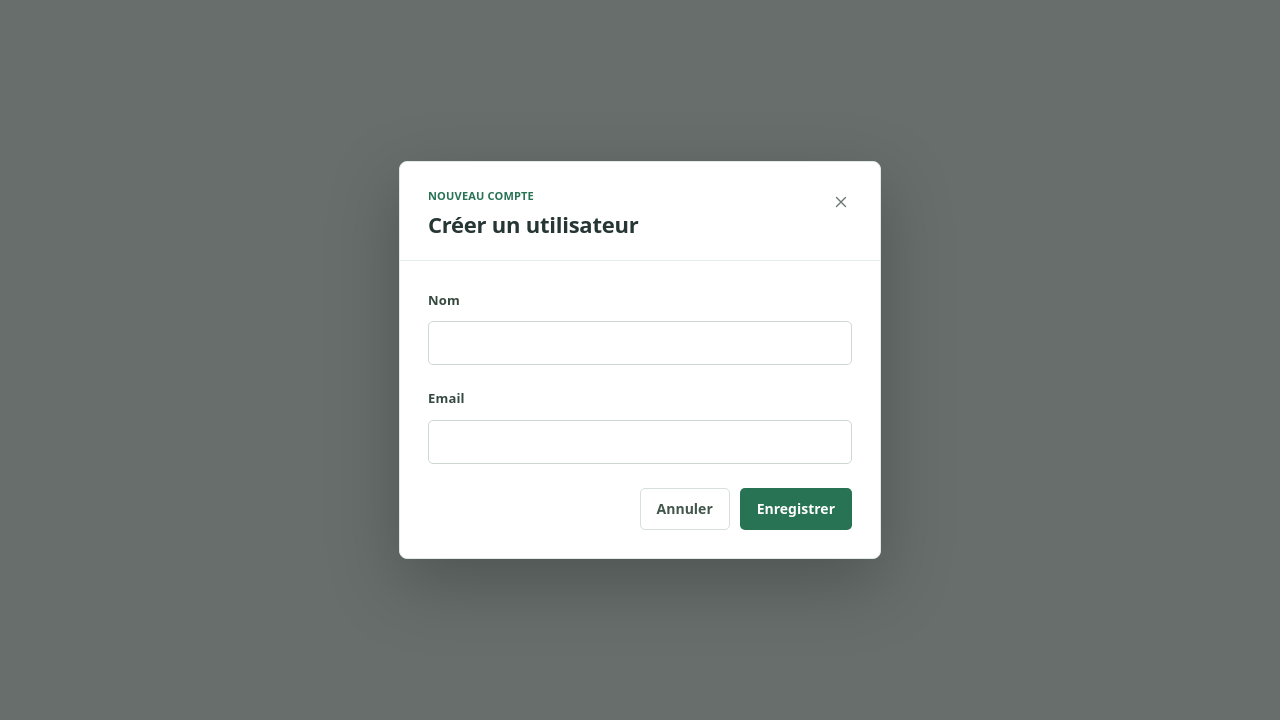
UserCreateModal › conserve les champs et la modal si l’API échoue en 500
The width and height of the screenshot is (1280, 720).
Step 1. Type "Karim" into the field with id "create-user-name" → (640, 344), box x1=428 y1=322 x2=852 y2=366
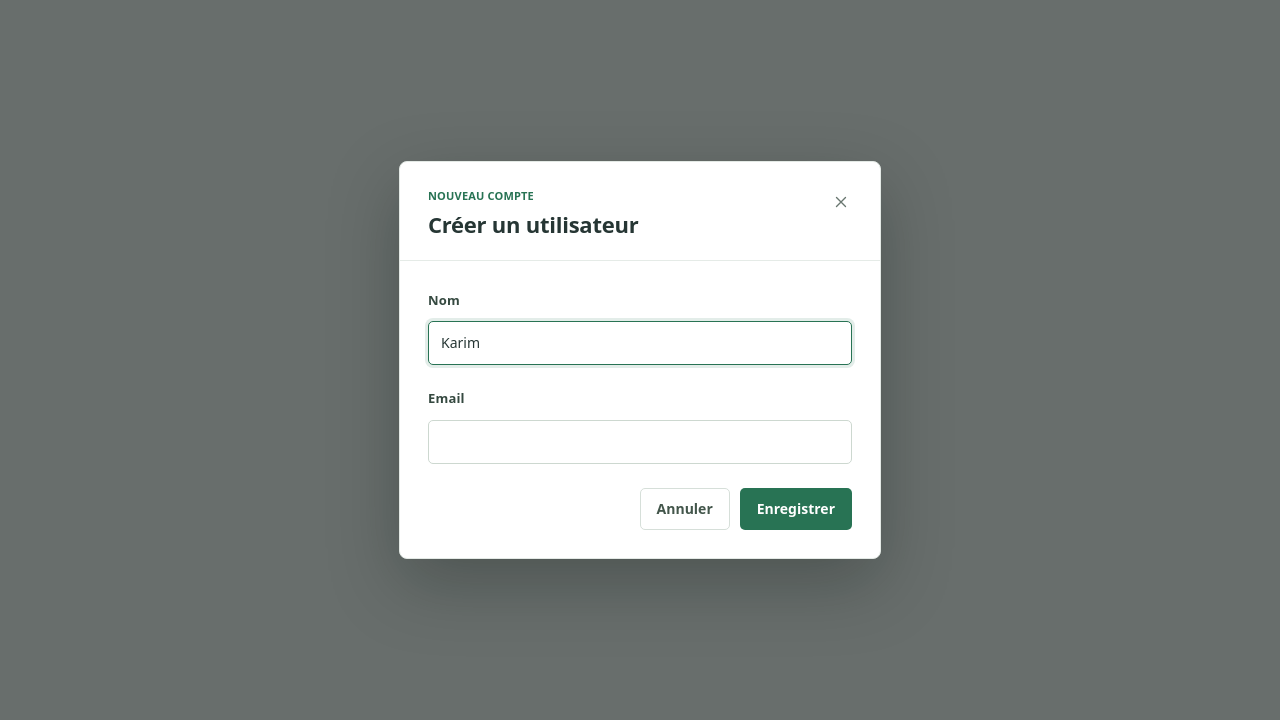
Step 2. Type "karim@example.com" into the field with id "create-user-email" → (640, 442), box x1=428 y1=420 x2=852 y2=464
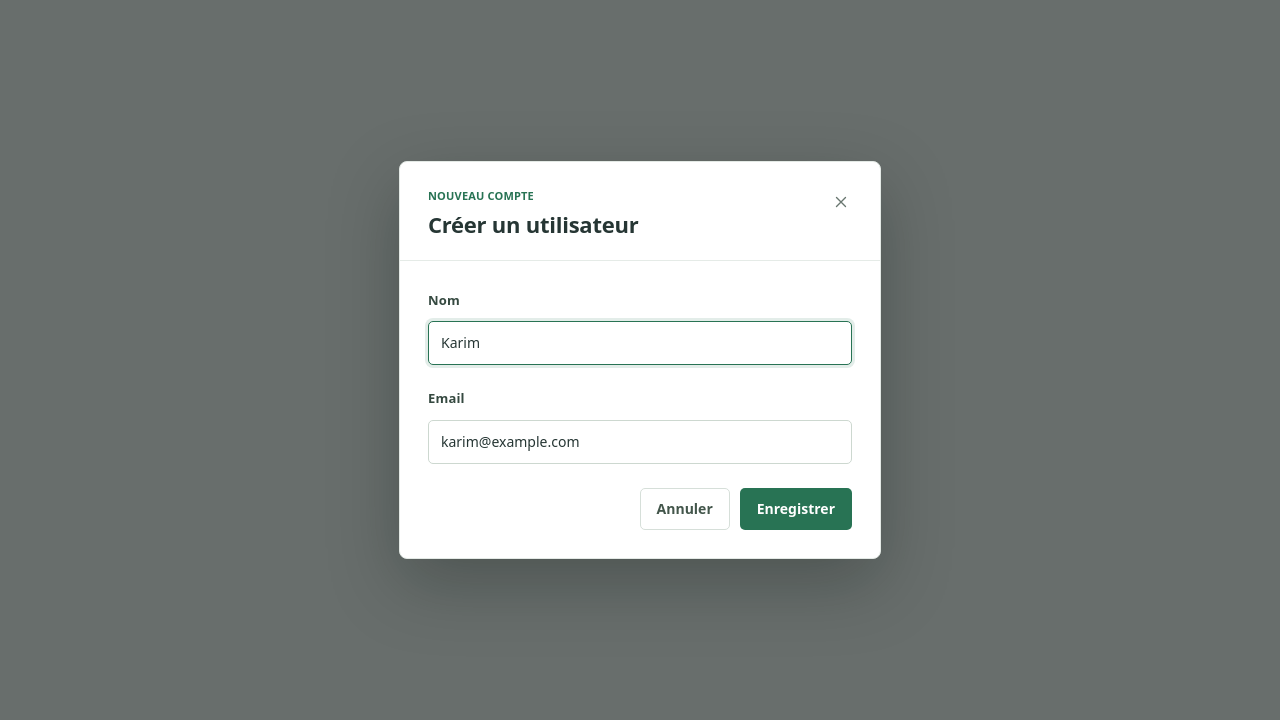
Step 3. Submit the form with class "create-form", box x1=400 y1=261 x2=880 y2=558
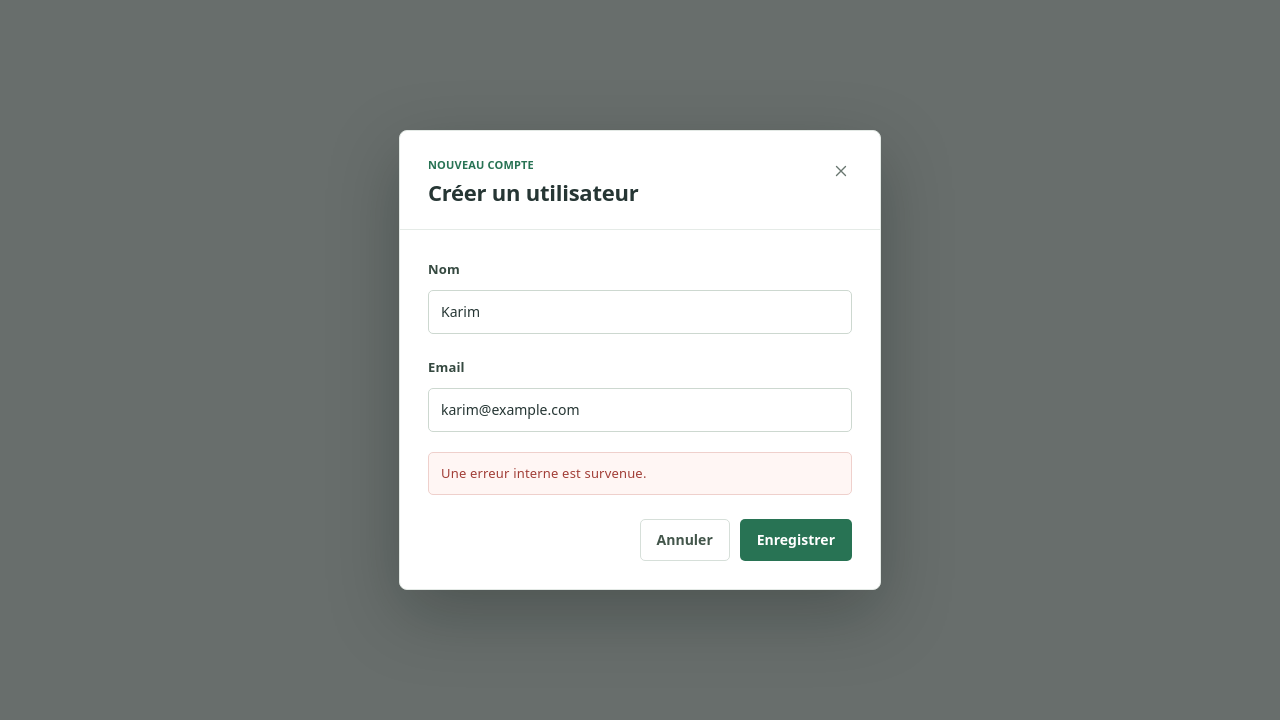
Check: the dialog with class "create-modal" is shown, box x1=399 y1=130 x2=881 y2=590
Check: the text "Une erreur interne est survenue." is shown, box x1=428 y1=452 x2=852 y2=495
